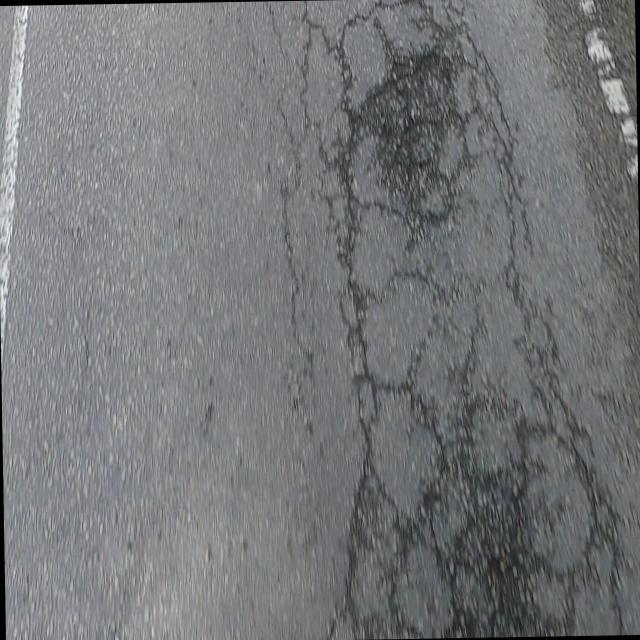Retak-Buaya: (303, 0, 628, 640)
